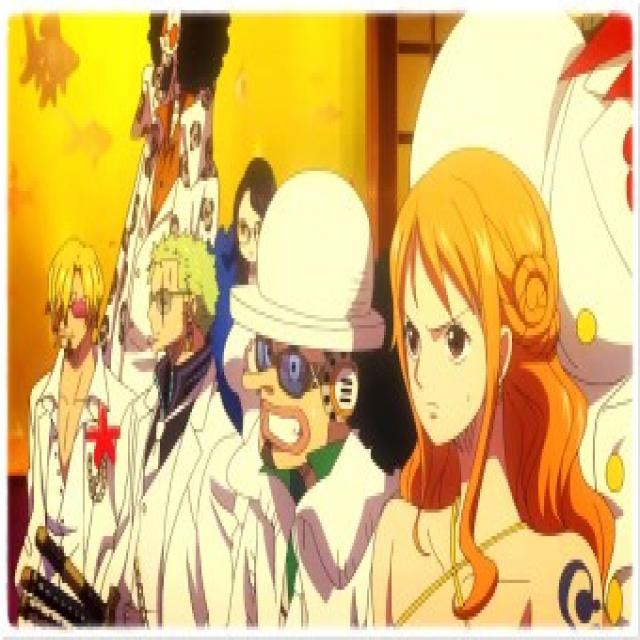Blook: (140, 4, 225, 122)
Nami: (391, 146, 557, 474)
Sangdi: (40, 232, 111, 367)
Usopp: (229, 173, 385, 477)
Zoro: (141, 227, 218, 372)
